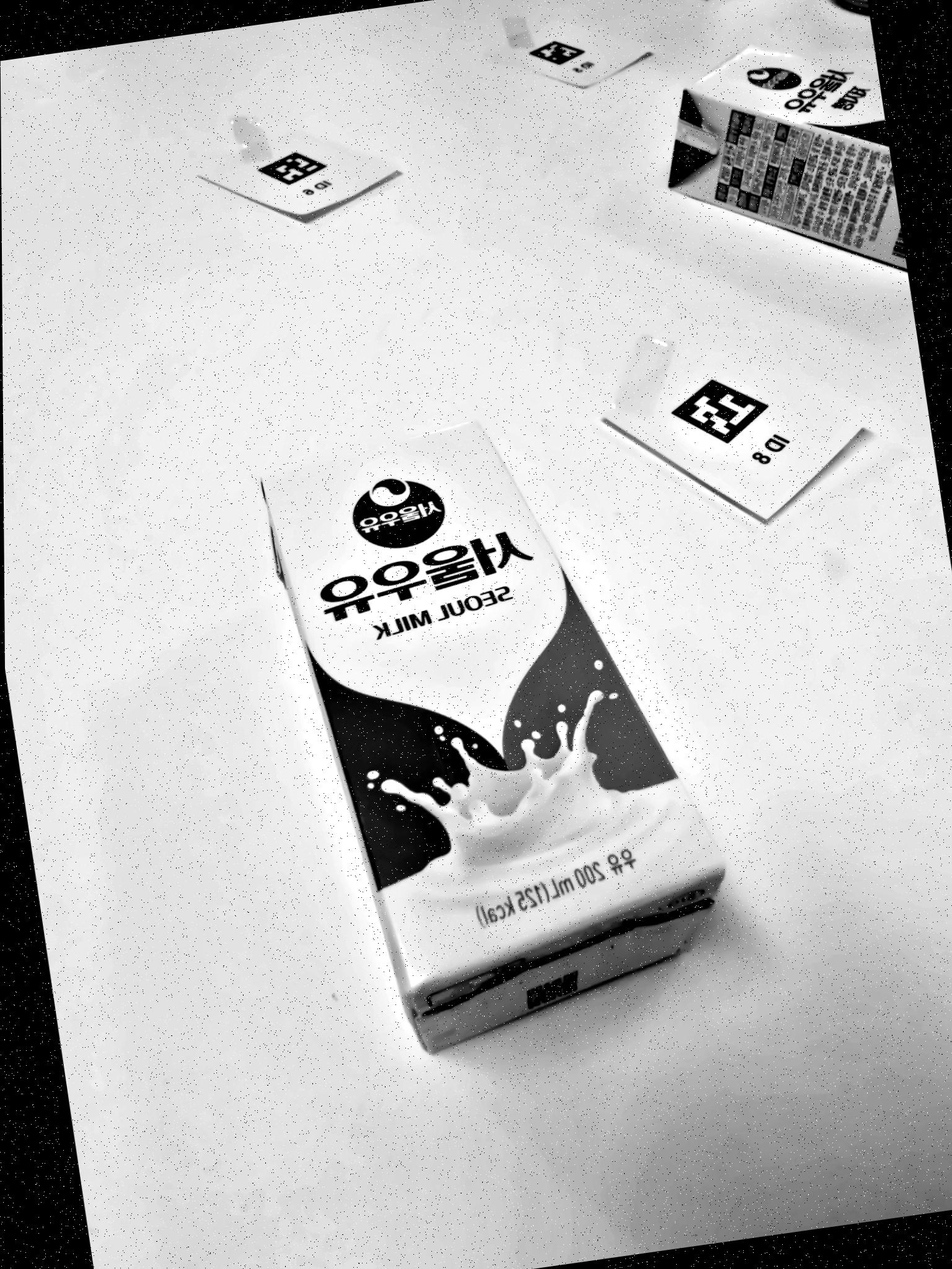milk_blue: (666, 45, 906, 269)
milk_green: (260, 420, 725, 1059)
